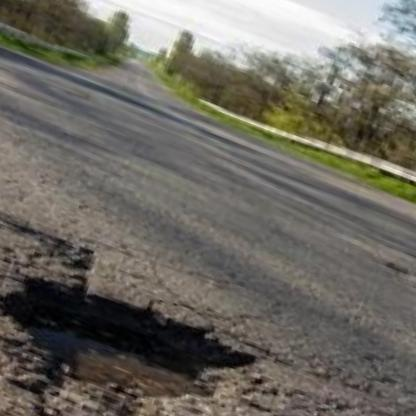pothole: (0, 244, 279, 416)
